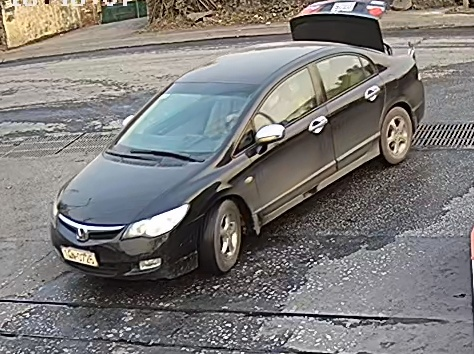vehicle plate: (57, 243, 101, 268)
